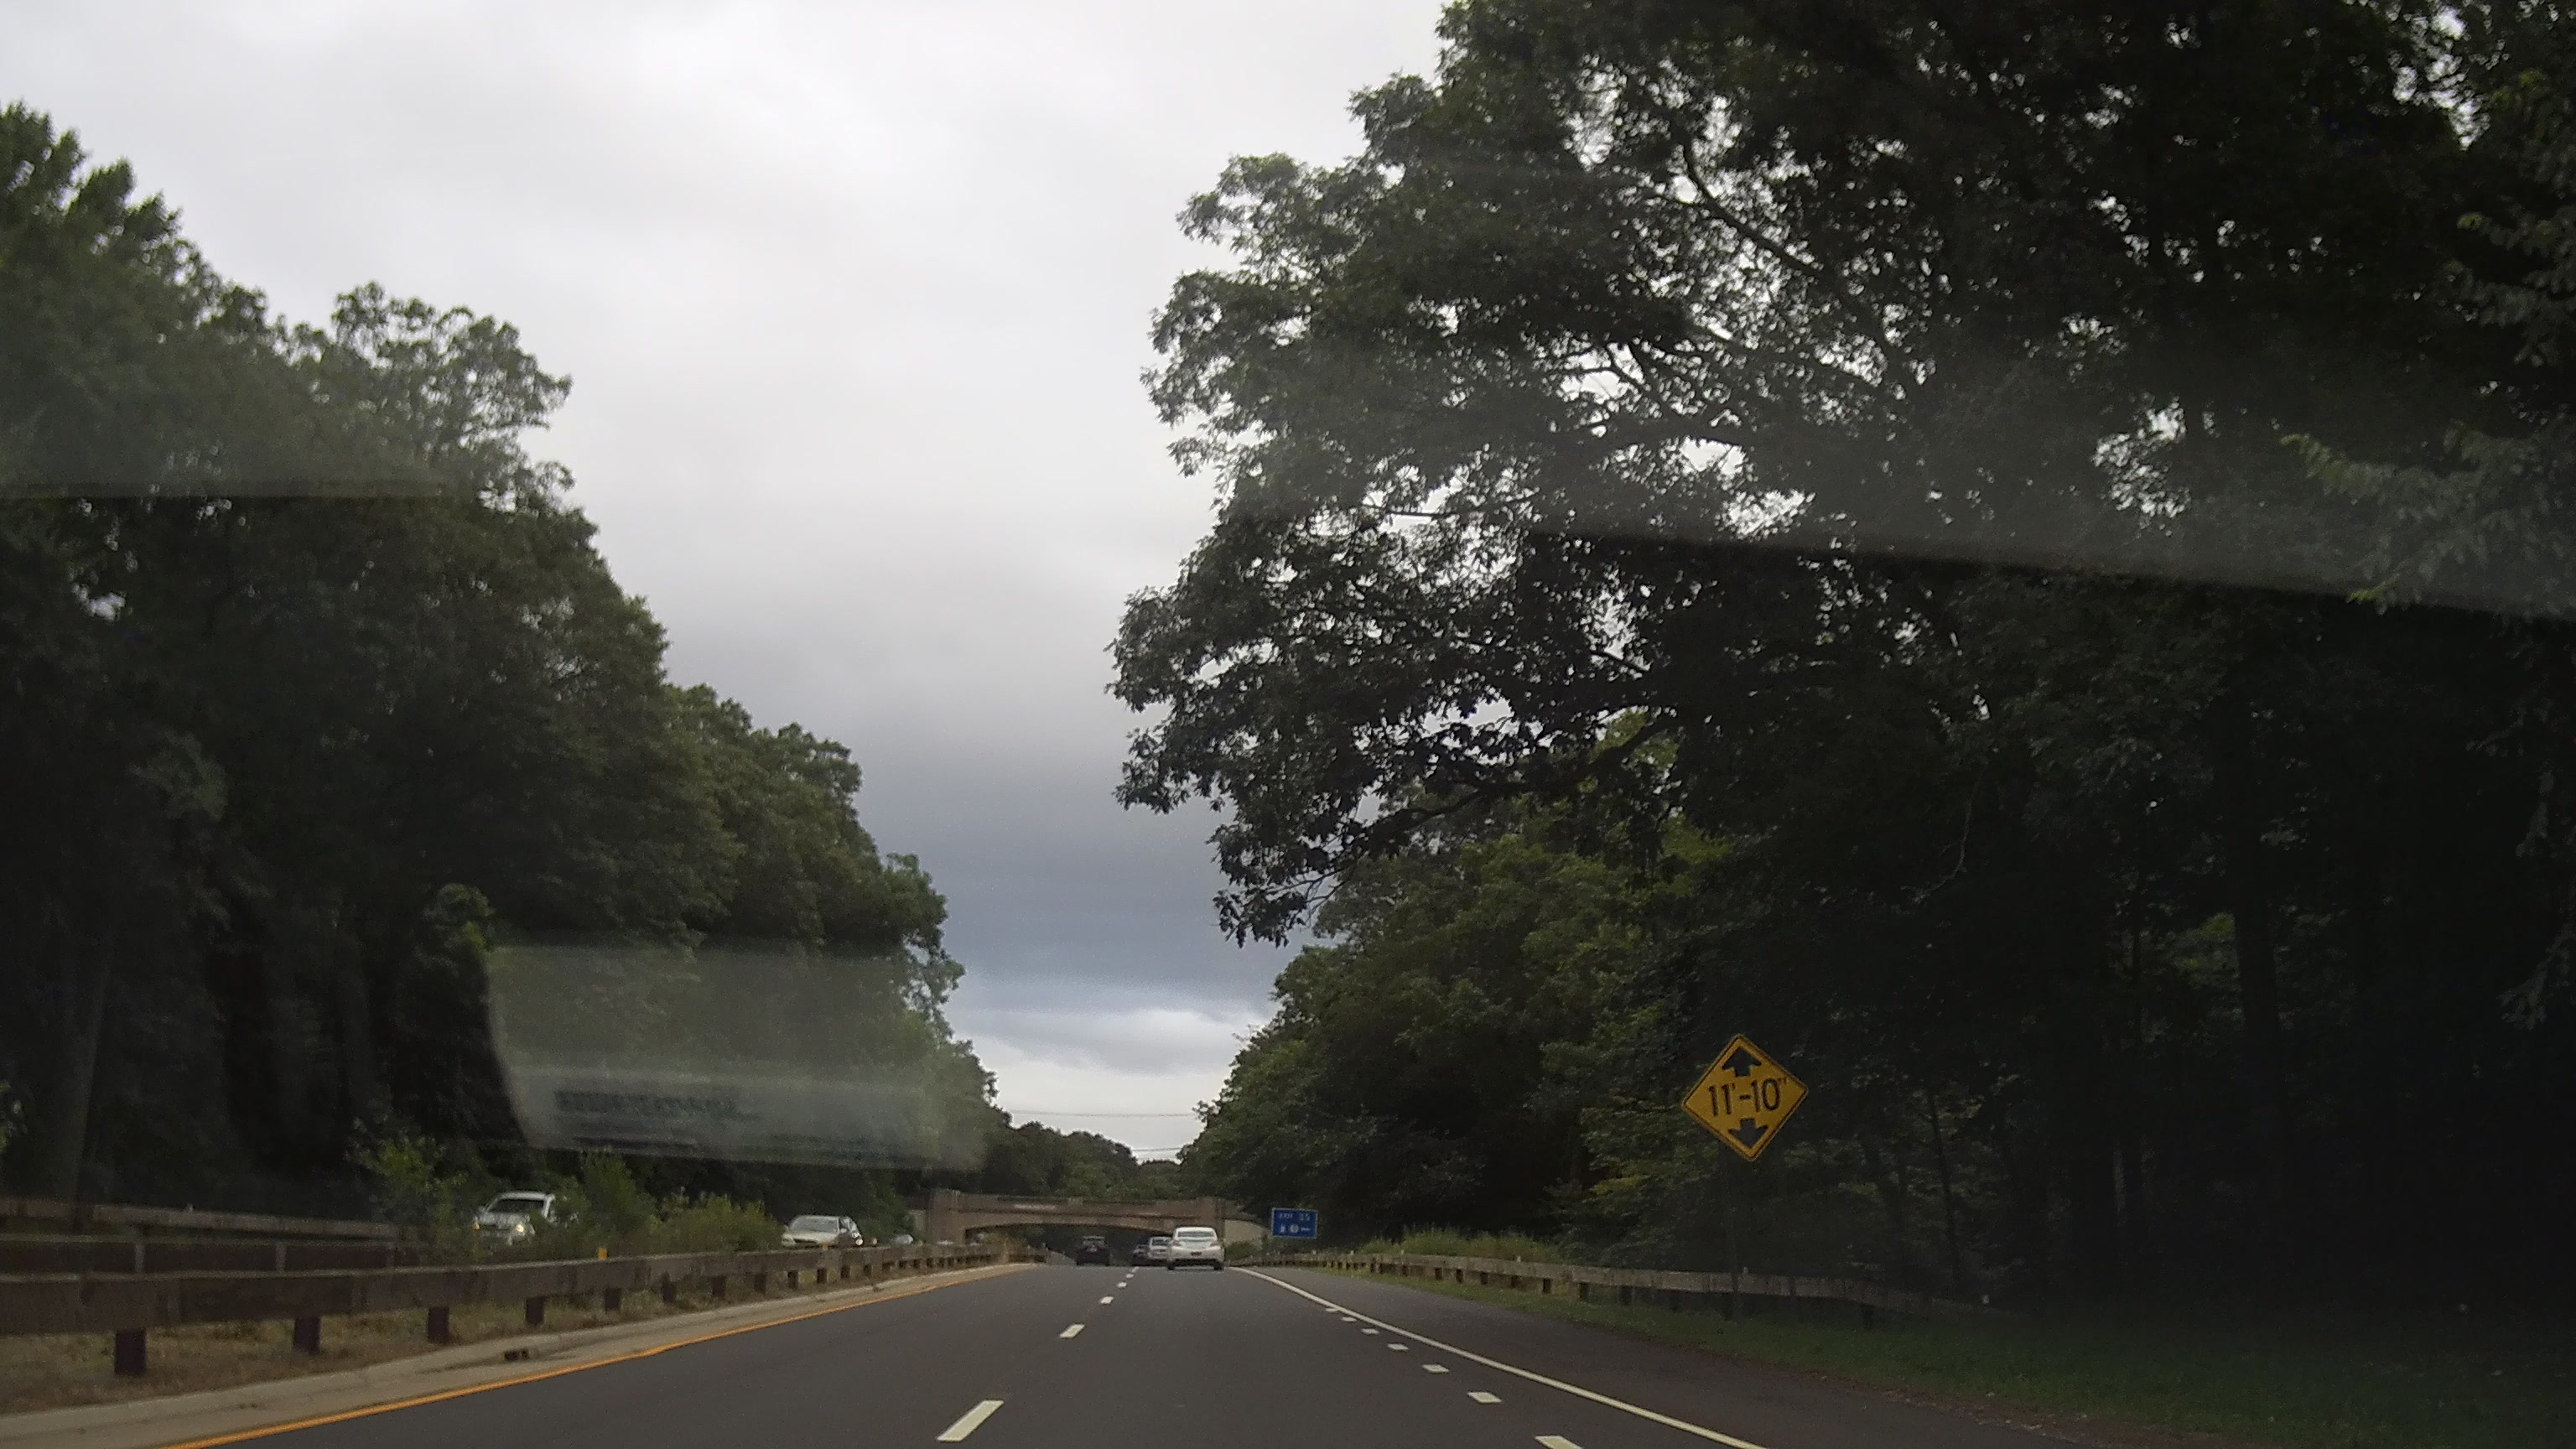low-clearance-sign: (1679, 1031, 1810, 1162)
